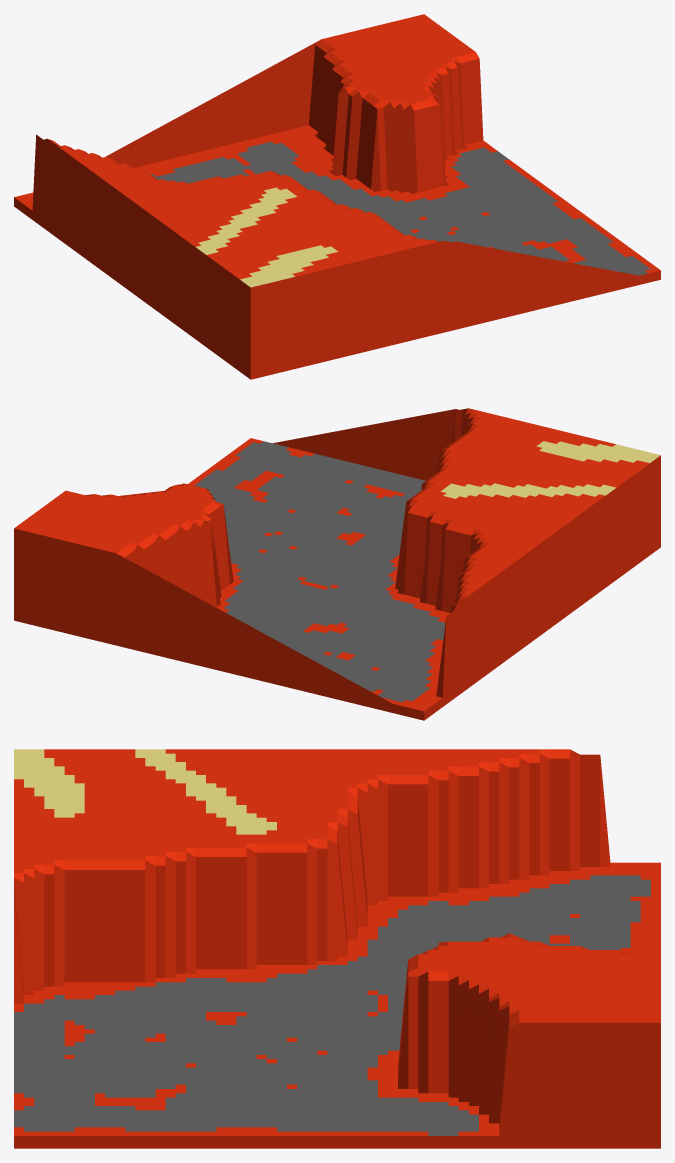
The model's file is Level 2 - Area 2.fbx.
3 views of the same model, one above another, from view 1: azimuth 30°, elevation 25°; view 2: azimuth 150°, elevation 25°; view 3: azimuth 270°, elevation 25° (orthographic). The views are drawn at different scales.
Parts seen in each view (by area): view 1: Level2-Area2; view 2: Level2-Area2; view 3: Level2-Area2.
Part boxes in pixels (x1=…): Level2-Area2: x1=14, y1=14, x2=660, y2=379; Level2-Area2: x1=14, y1=408, x2=660, y2=720; Level2-Area2: x1=14, y1=749, x2=660, y2=1148.
Size of the model in its own units: 10000 by 2148 by 10000.
